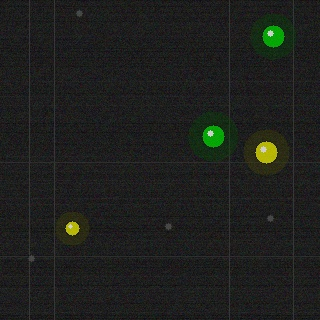green_normal: (200, 123, 226, 149), (260, 23, 286, 49)
yellow_warning: (253, 139, 279, 165), (63, 219, 81, 237)
